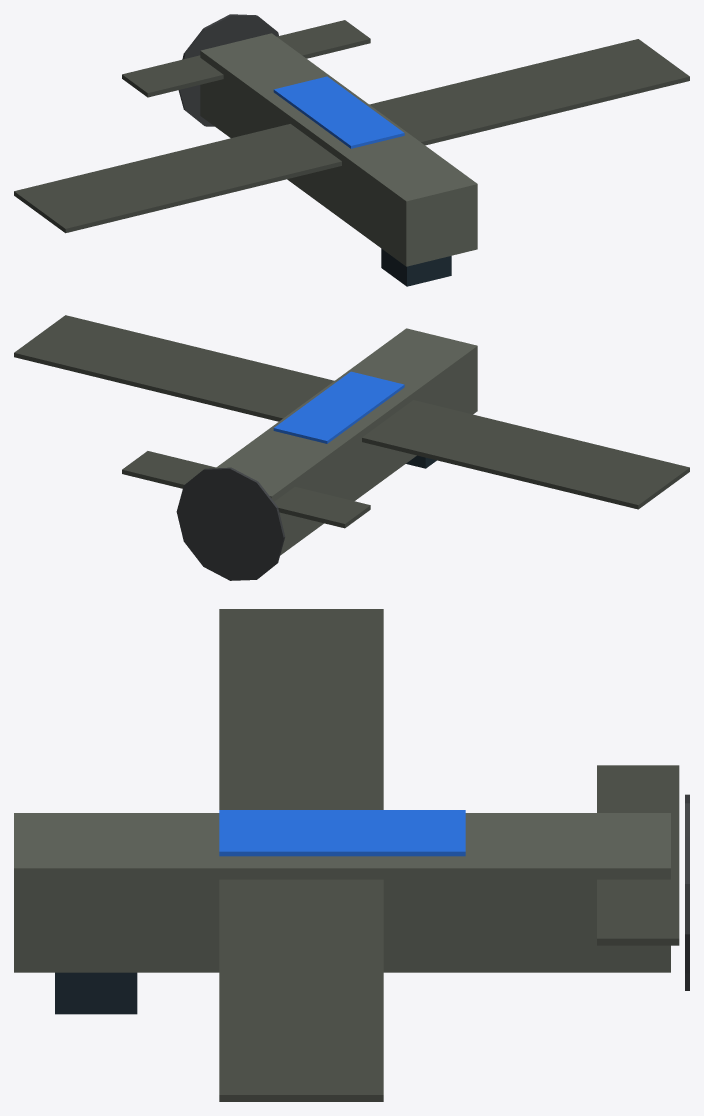
File: eu_recon_drone.glb
3 renders of one model, top to bottom at view 1: azimuth 30°, elevation 25°; view 2: azimuth 150°, elevation 25°; view 3: azimuth 270°, elevation 25°, orthographic. The views are drawn at different scales.
Parts seen in each view (by area): view 1: wing, body, team_plate, tail, prop, camera_pod; view 2: wing, body, prop, team_plate, tail; view 3: body, wing, team_plate, tail, camera_pod, prop.
Boxes of the visible parts, x1,y1,x2,y2 form: wing: (14, 39, 689, 233); body: (200, 33, 477, 266); team_plate: (273, 76, 404, 148); tail: (122, 20, 370, 97); prop: (178, 14, 278, 126); camera_pod: (381, 248, 451, 286); wing: (14, 315, 689, 509); body: (215, 328, 477, 555); prop: (176, 467, 285, 580); team_plate: (273, 371, 404, 443); tail: (122, 451, 370, 528); body: (14, 813, 670, 972); wing: (219, 609, 383, 1101); team_plate: (219, 810, 465, 856); tail: (597, 765, 679, 945); camera_pod: (55, 972, 137, 1014); prop: (685, 794, 689, 990).
Bounding box in the file's own units: 4.48 × 0.832 × 2.63.
